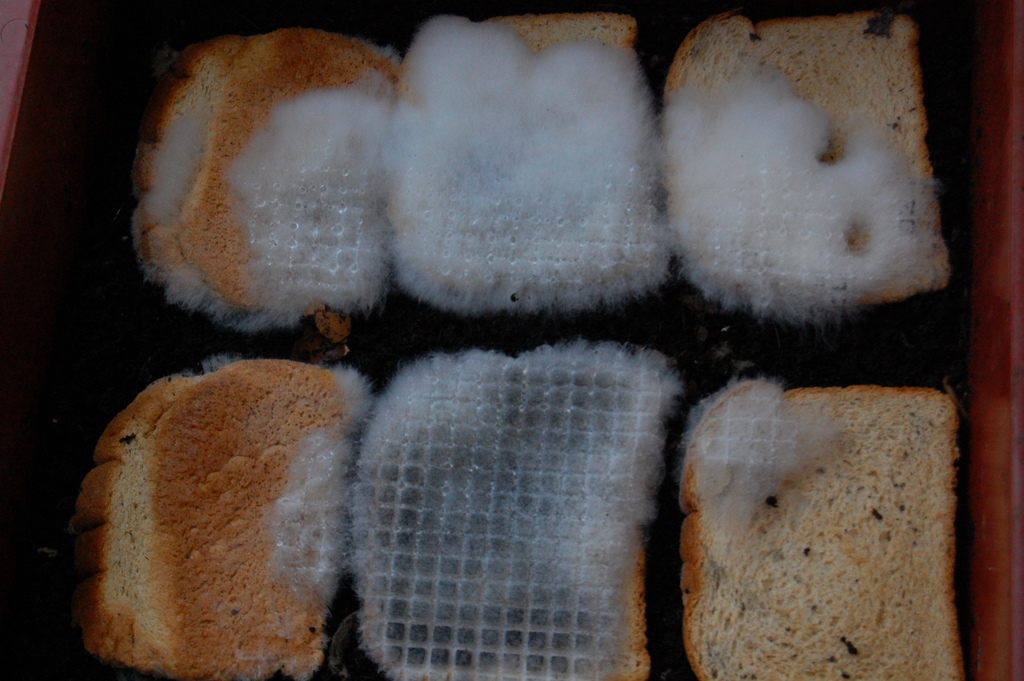slice of bread: (691, 401, 983, 681), (675, 27, 958, 291), (111, 391, 345, 670)
